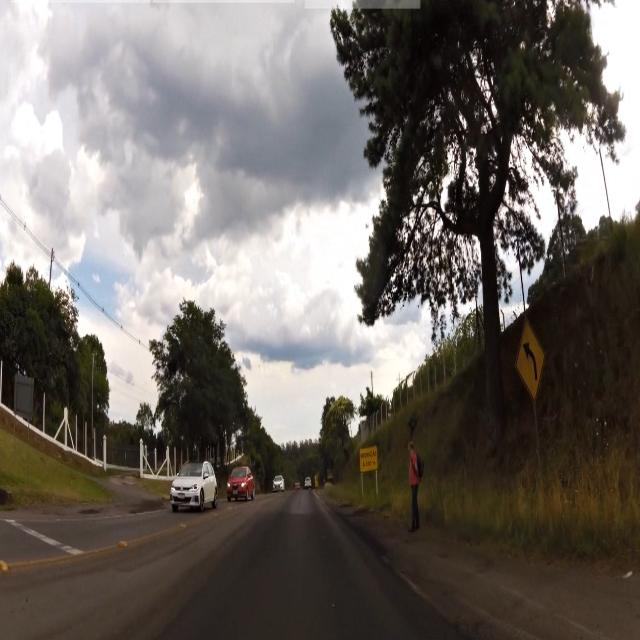A-2a: (509, 315, 552, 404)
